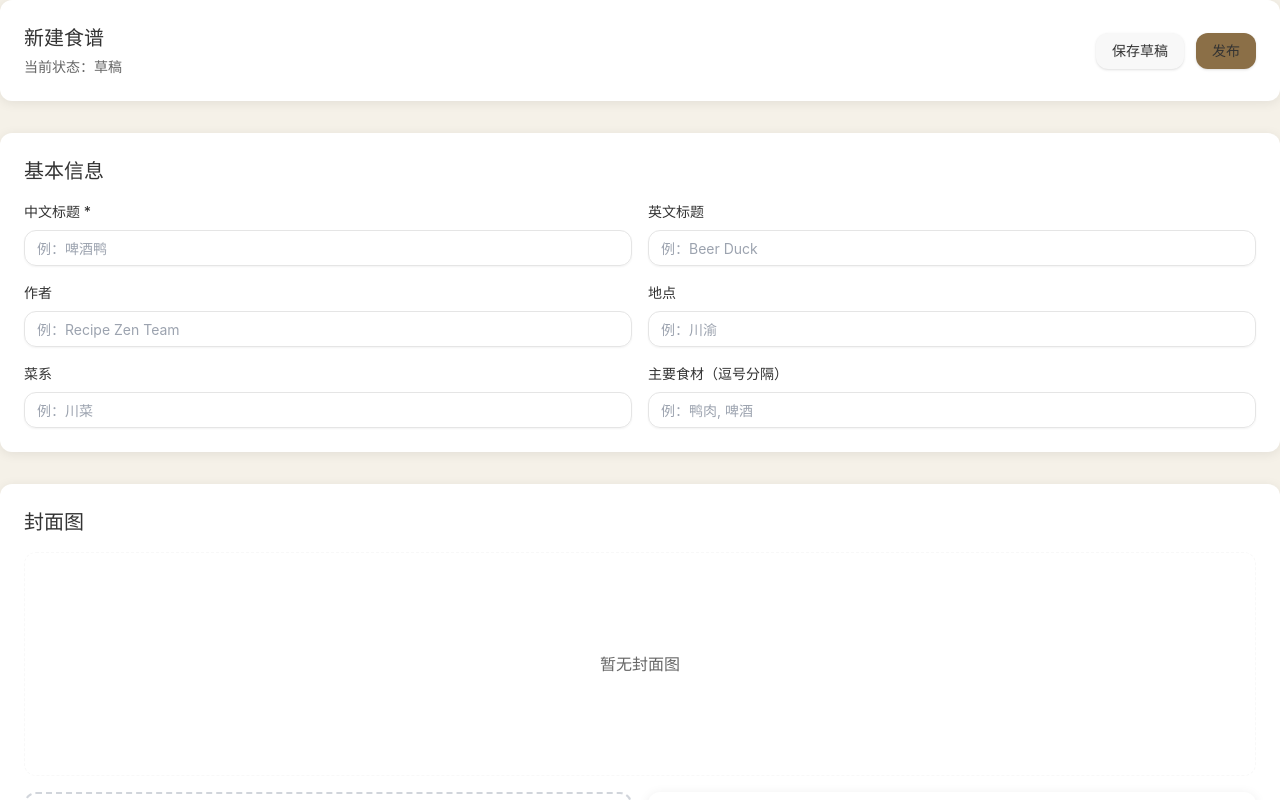
it: RecipeForm › updates publish state when publish button is clicked
The image size is (1280, 800).
Click the button "发布". click: (1226, 50)
box: [1196,32,1256,68]
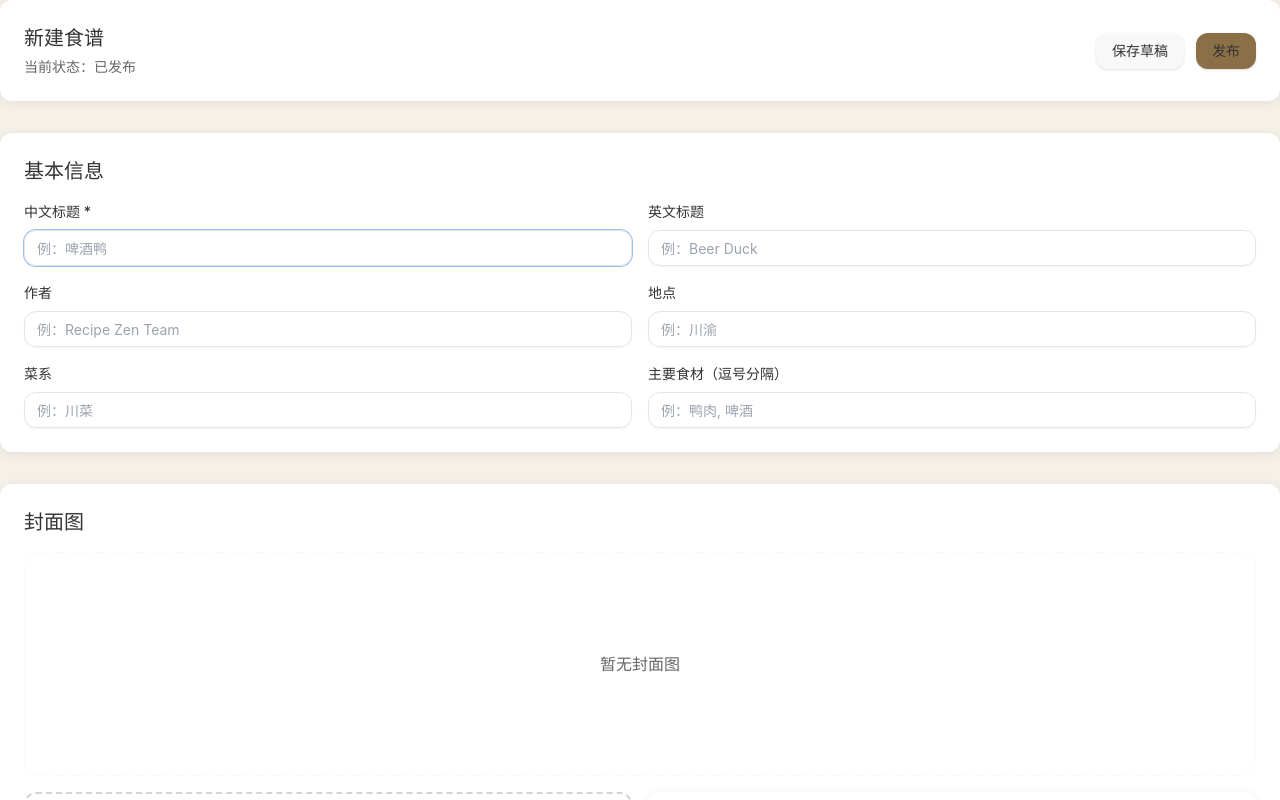
Now the text "当前状态：已发布" is shown, box [24,56,136,77]
